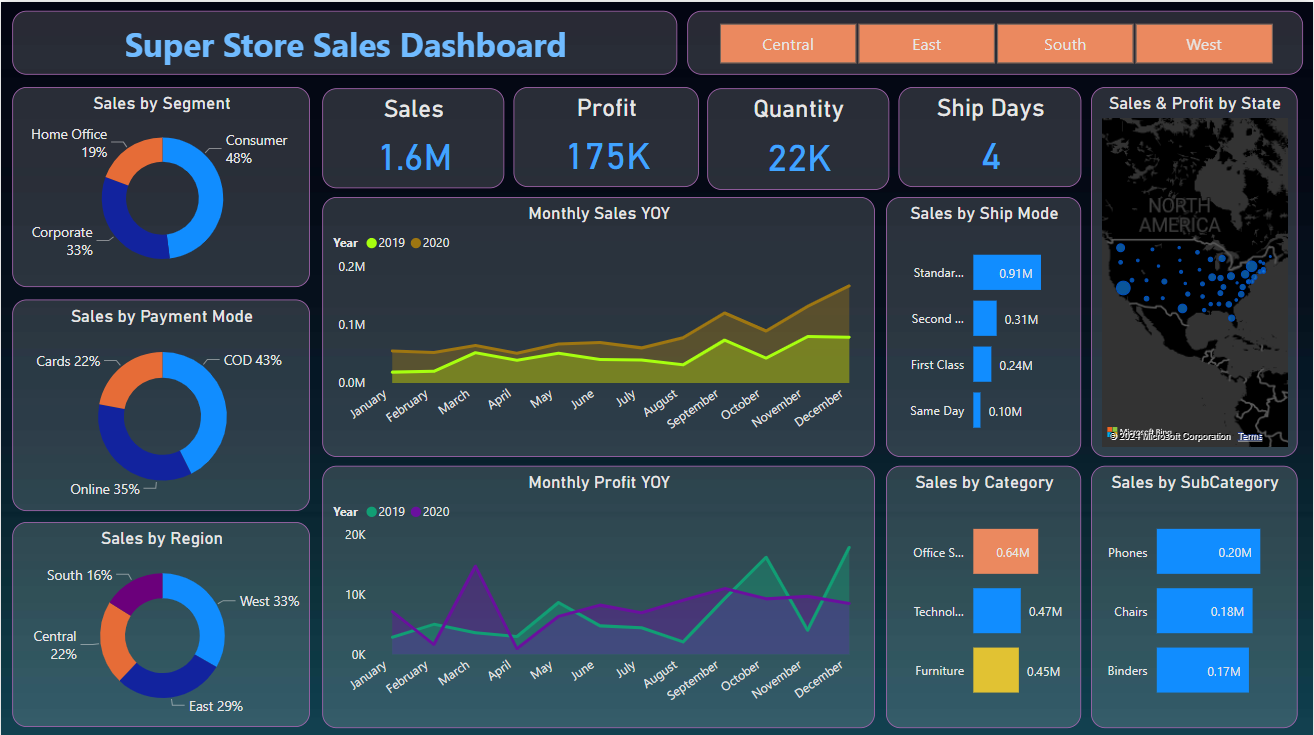

This screenshot's page, from the dashboard's own definition file:
{"tool":"powerbi","page":{"name":"Sales Dashboard","canvas":[1280,720],"ordinal":0},"visuals":[{"type":"clusteredBarChart","title":"Sales by Category","fields":{"Category":["Sheet1.Category"],"Y":["Sum(Sheet1.Sales)"]},"box":[863.5,452.3,190.6,255.7],"z":0},{"type":"clusteredBarChart","title":"Sales by SubCategory","fields":{"Category":["Sheet1.Sub-Category"],"Y":["Sum(Sheet1.Sales)"]},"box":[1063.7,452.3,201.4,255.7],"z":1000},{"type":"clusteredBarChart","title":"Sales by Ship Mode","fields":{"Category":["Sheet1.Ship Mode"],"Y":["Sum(Sheet1.Sales)"]},"box":[863.5,190.6,190.6,253.3],"z":2000},{"type":"areaChart","title":"Monthly Sales YOY","fields":{"Y":["Sum(Sheet1.Sales)"],"Category":["Sheet1.Order Date.Variation.Date Hierarchy.Month"],"Series":["Sheet1.Order Date.Variation.Date Hierarchy.Year"]},"box":[313.6,190.6,539.1,253.3],"z":3000},{"type":"areaChart","title":"Monthly Profit YOY","fields":{"Category":["Sheet1.Order Date.Variation.Date Hierarchy.Month"],"Series":["Sheet1.Order Date.Variation.Date Hierarchy.Year"],"Y":["Sum(Sheet1.Profit)"]},"box":[313.6,452.3,539.1,255.7],"z":4000},{"type":"map","title":"Sales & Profit by State","fields":{"Category":["Sheet1.State"],"Size":["Sum(Sheet1.Sales)"]},"box":[1063.7,83.2,201.4,360.6],"z":5000},{"type":"donutChart","title":"Sales by Segment","fields":{"Category":["Sheet1.Segment"],"Y":["Sum(Sheet1.Sales)"]},"box":[10.9,82.8,290.7,195.4],"z":6000},{"type":"donutChart","title":"Sales by Payment Mode","fields":{"Y":["Sum(Sheet1.Sales)"],"Category":["Sheet1.Payment Mode"]},"box":[10.9,289.8,290.7,206.2],"z":7000},{"type":"donutChart","title":"Sales by Region","fields":{"Category":["Sheet1.Region"],"Y":["Sum(Sheet1.Sales)"]},"box":[10.9,507.7,290.7,200.2],"z":8000},{"type":"slicer","fields":{"Values":["Sheet1.Region"]},"box":[669.3,8.4,600.6,62.7],"z":9000},{"type":"textbox","box":[10.9,8.4,648.8,62.7],"z":10000},{"type":"card","title":"Sales","fields":{"Values":["Sum(Sheet1.Sales)"]},"box":[313.6,84.4,177.3,97.7],"z":11000},{"type":"card","title":"Profit","fields":{"Values":["Sum(Sheet1.Profit)"]},"box":[499.7,83.2,180.9,97.7],"z":12000},{"type":"card","title":"Quantity","fields":{"Values":["Sum(Sheet1.Quantity)"]},"box":[689.4,84.4,177.3,98.9],"z":13000},{"type":"card","title":"Ship Days","fields":{"Values":["Avg(Sheet1.AvgDelivery)"]},"box":[875.6,83.2,178.5,97.7],"z":14000}]}

Visuals, with their boxes in screenshot pixels (x1, y1, x2, y2), scaled from the page's 1280x720 canvas onto the 1314x735 screenshot:
"Sales by Category" clusteredBarChart: (left=886, top=462, right=1082, bottom=723)
"Sales by SubCategory" clusteredBarChart: (left=1092, top=462, right=1299, bottom=723)
"Sales by Ship Mode" clusteredBarChart: (left=886, top=195, right=1082, bottom=453)
"Monthly Sales YOY" areaChart: (left=322, top=195, right=875, bottom=453)
"Monthly Profit YOY" areaChart: (left=322, top=462, right=875, bottom=723)
"Sales & Profit by State" map: (left=1092, top=85, right=1299, bottom=453)
"Sales by Segment" donutChart: (left=11, top=85, right=310, bottom=284)
"Sales by Payment Mode" donutChart: (left=11, top=296, right=310, bottom=506)
"Sales by Region" donutChart: (left=11, top=518, right=310, bottom=723)
slicer - Sheet1.Region: (left=687, top=9, right=1304, bottom=73)
textbox: (left=11, top=9, right=677, bottom=73)
"Sales" card: (left=322, top=86, right=504, bottom=186)
"Profit" card: (left=513, top=85, right=699, bottom=185)
"Quantity" card: (left=708, top=86, right=890, bottom=187)
"Ship Days" card: (left=899, top=85, right=1082, bottom=185)
